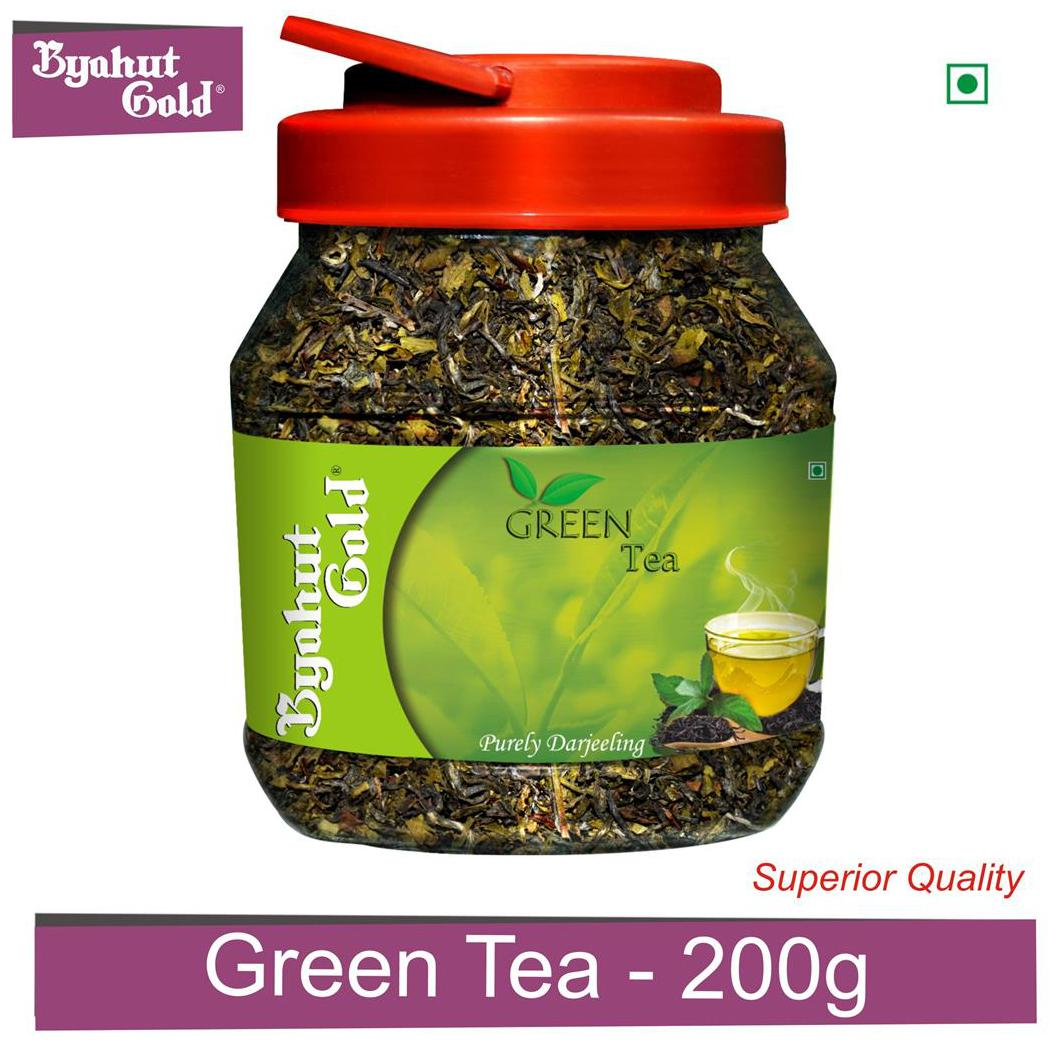JAR: (227, 52, 846, 862)
